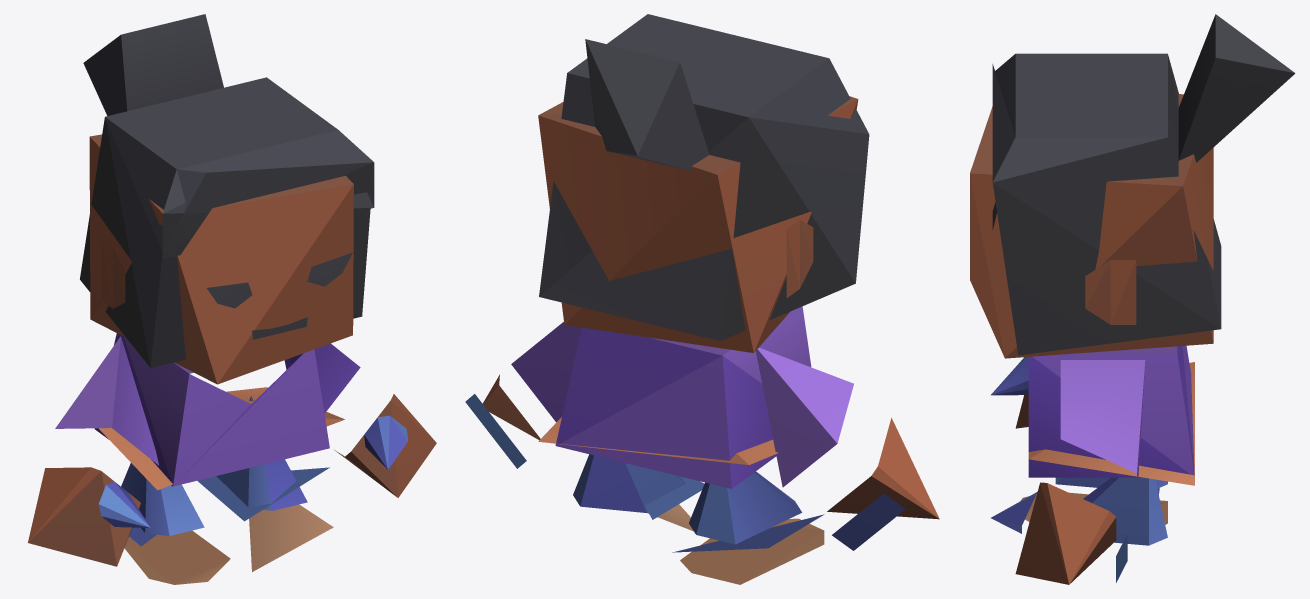
File: person-female-a.glb
The picture shows the model from 3 angles, left to right: view 1: azimuth 30°, elevation 25°; view 2: azimuth 150°, elevation 25°; view 3: azimuth 270°, elevation 25°; orthographic projection. The views are drawn at different scales.
Parts seen in each view (by area): view 1: character-female-a; view 2: character-female-a; view 3: character-female-a.
Boxes of the visible parts, left/top/right/bottom form: character-female-a: left=28, top=14, right=436, bottom=584; character-female-a: left=465, top=14, right=939, bottom=584; character-female-a: left=970, top=14, right=1295, bottom=584.
Bounding box in the file's own units: 1.68 × 1.93 × 1.1.
